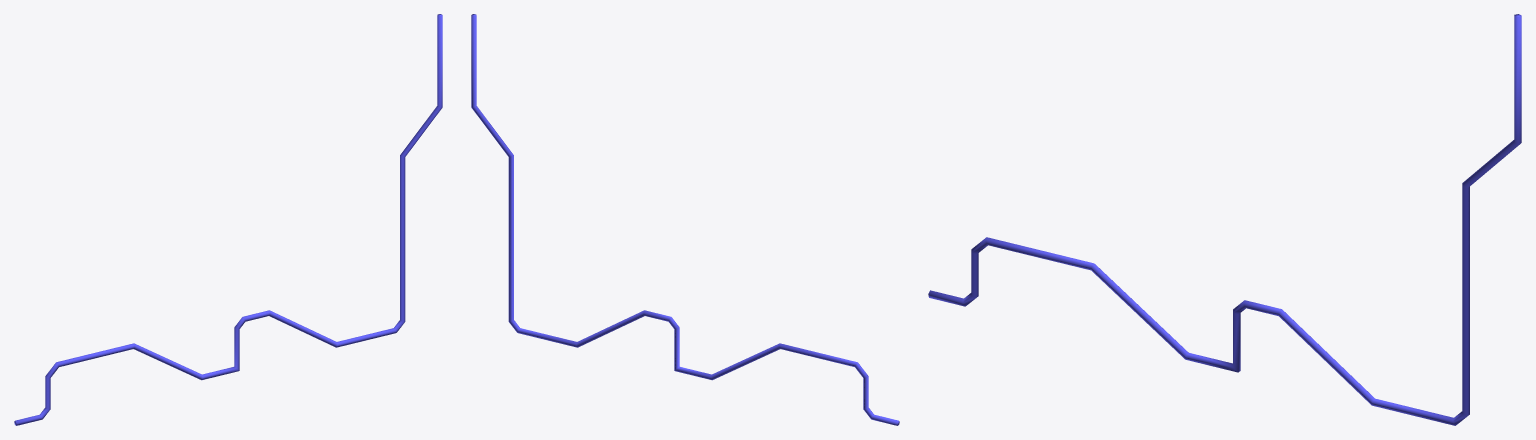
The model's file is original-80.obj.
3 renders of one model, left to right at view 1: azimuth 30°, elevation 25°; view 2: azimuth 150°, elevation 25°; view 3: azimuth 330°, elevation 25°, orthographic. The views are drawn at different scales.
Visible parts, largest first — view 1: mesh40/mesh40-geometry#mesh40-geometry; view 2: mesh40/mesh40-geometry#mesh40-geometry; view 3: mesh40/mesh40-geometry#mesh40-geometry.
Boxes of the visible parts, box(x1,y1,x2,y2) form: mesh40/mesh40-geometry#mesh40-geometry: box(14, 14, 442, 425); mesh40/mesh40-geometry#mesh40-geometry: box(471, 14, 899, 425); mesh40/mesh40-geometry#mesh40-geometry: box(928, 14, 1521, 425).
Size of the model in its own units: 0.3726 by 0.2561 by 0.00423.
